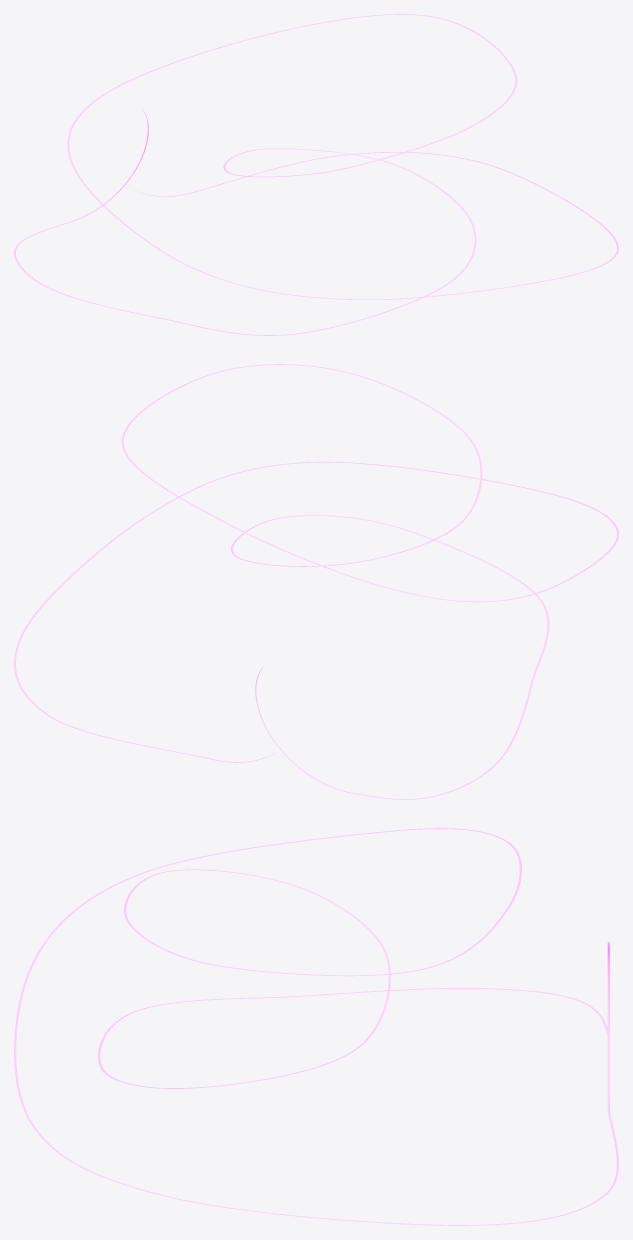
The model's file is circuit-part-9.glb.
3 renders of one model, top to bottom at view 1: azimuth 30°, elevation 25°; view 2: azimuth 150°, elevation 25°; view 3: azimuth 270°, elevation 25°, orthographic. The views are drawn at different scales.
Visible parts, largest first — view 1: track-part-0; view 2: track-part-0; view 3: track-part-0.
Part boxes in pixels (bbox=[...]): track-part-0: bbox=[14, 14, 618, 335]; track-part-0: bbox=[14, 364, 618, 799]; track-part-0: bbox=[14, 828, 618, 1225].
Size of the model in its own units: 25.24 by 10.61 by 24.52.
